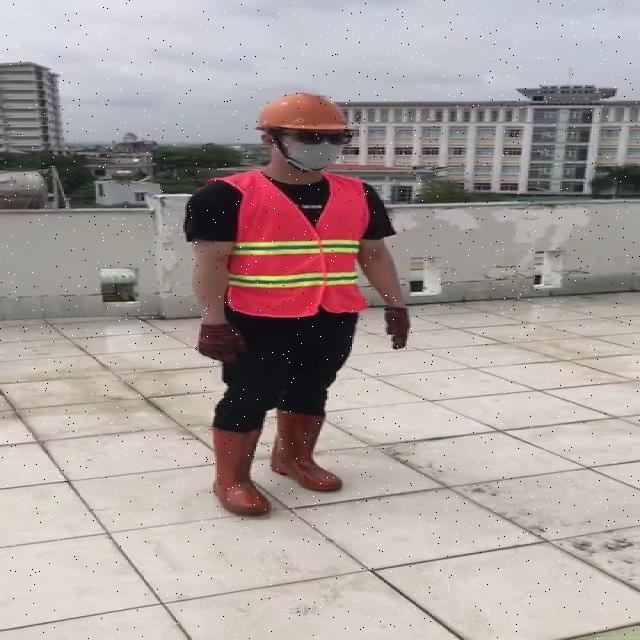Hard_hat: (247, 90, 359, 147)
Person: (175, 84, 414, 522)
Vest: (221, 166, 365, 316)
